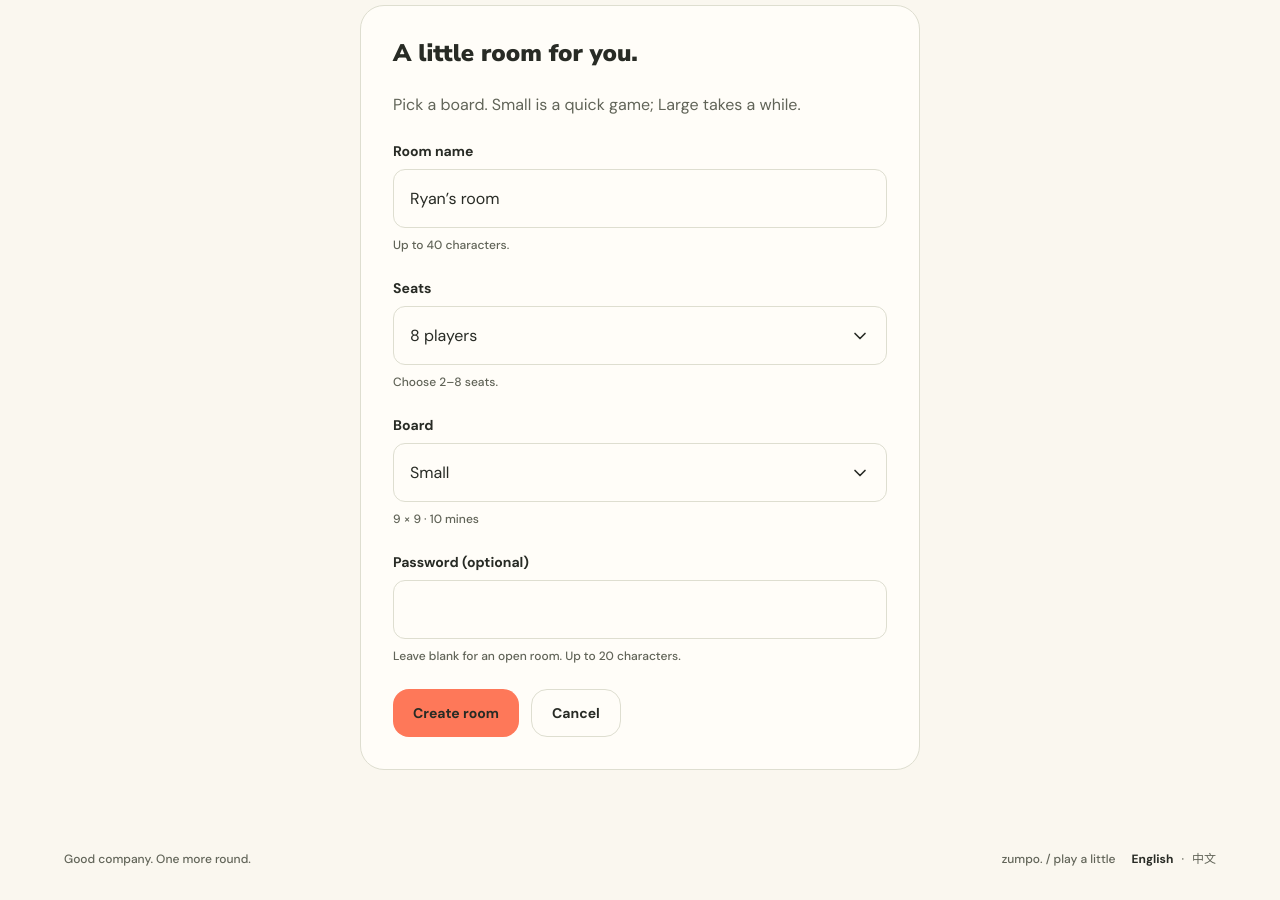
Scenario: making a room › says so when the server holds all the rooms it can
(page scrolled)
Click the button "Create room": (456, 713) [393,689,519,737]
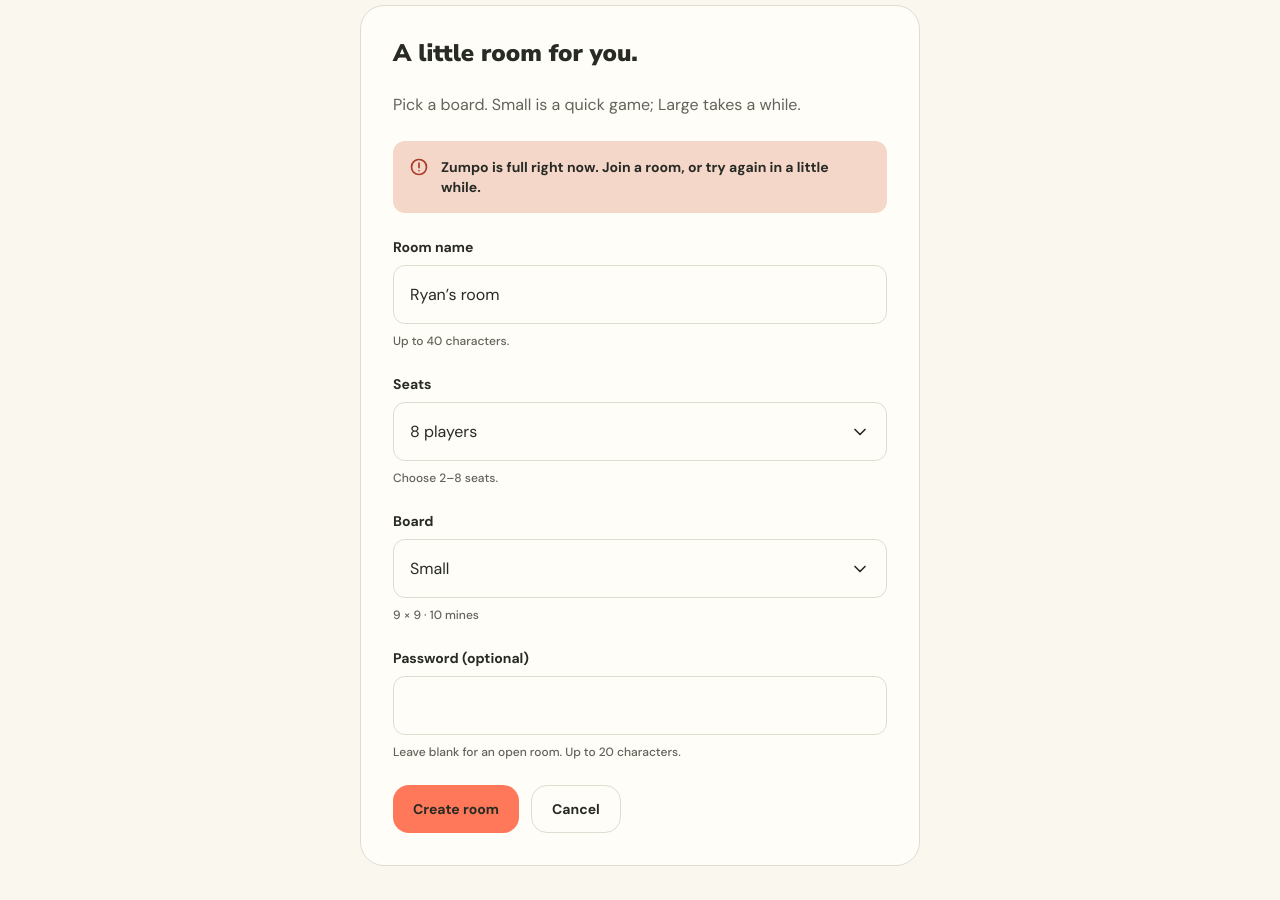
Expected: the button "Create room" is shown, [393,785,519,833]
Expected: the text "Zumpo is full right now." is shown, [441,158,829,196]
